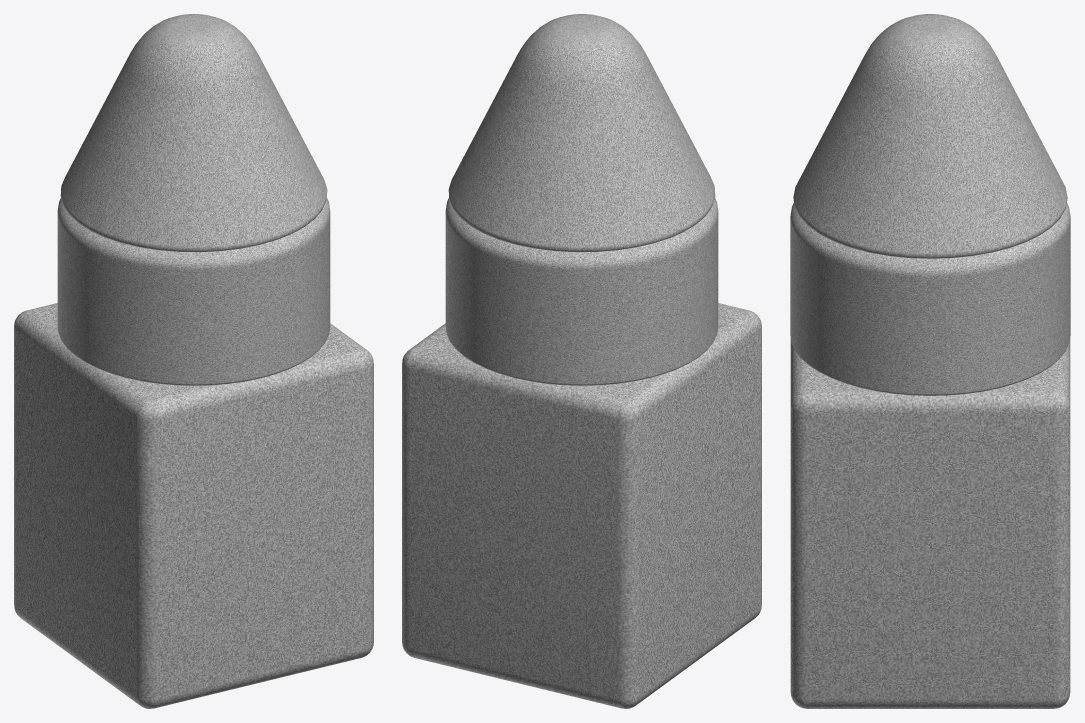
Rendered from dn_level1.gltf.
3 views of the same model, side by side, from view 1: azimuth 30°, elevation 25°; view 2: azimuth 150°, elevation 25°; view 3: azimuth 270°, elevation 25° (orthographic). The views are drawn at different scales.
Visible parts, largest first — view 1: 큐브, 원뿔 2, 원뿔; view 2: 큐브, 원뿔 2, 원뿔; view 3: 큐브, 원뿔 2, 원뿔.
Boxes of the visible parts, x1,y1,x2,y2 form: 큐브: (14,303,373,708); 원뿔 2: (60,14,327,252); 원뿔: (57,198,330,385); 큐브: (402,303,761,708); 원뿔 2: (448,14,715,252); 원뿔: (445,198,718,385); 큐브: (790,338,1070,708); 원뿔 2: (793,14,1067,258); 원뿔: (790,203,1070,395).
Size of the model in its own units: 0.2005 by 0.4976 by 0.2005.
Materials: 1 (1 with a texture image).
